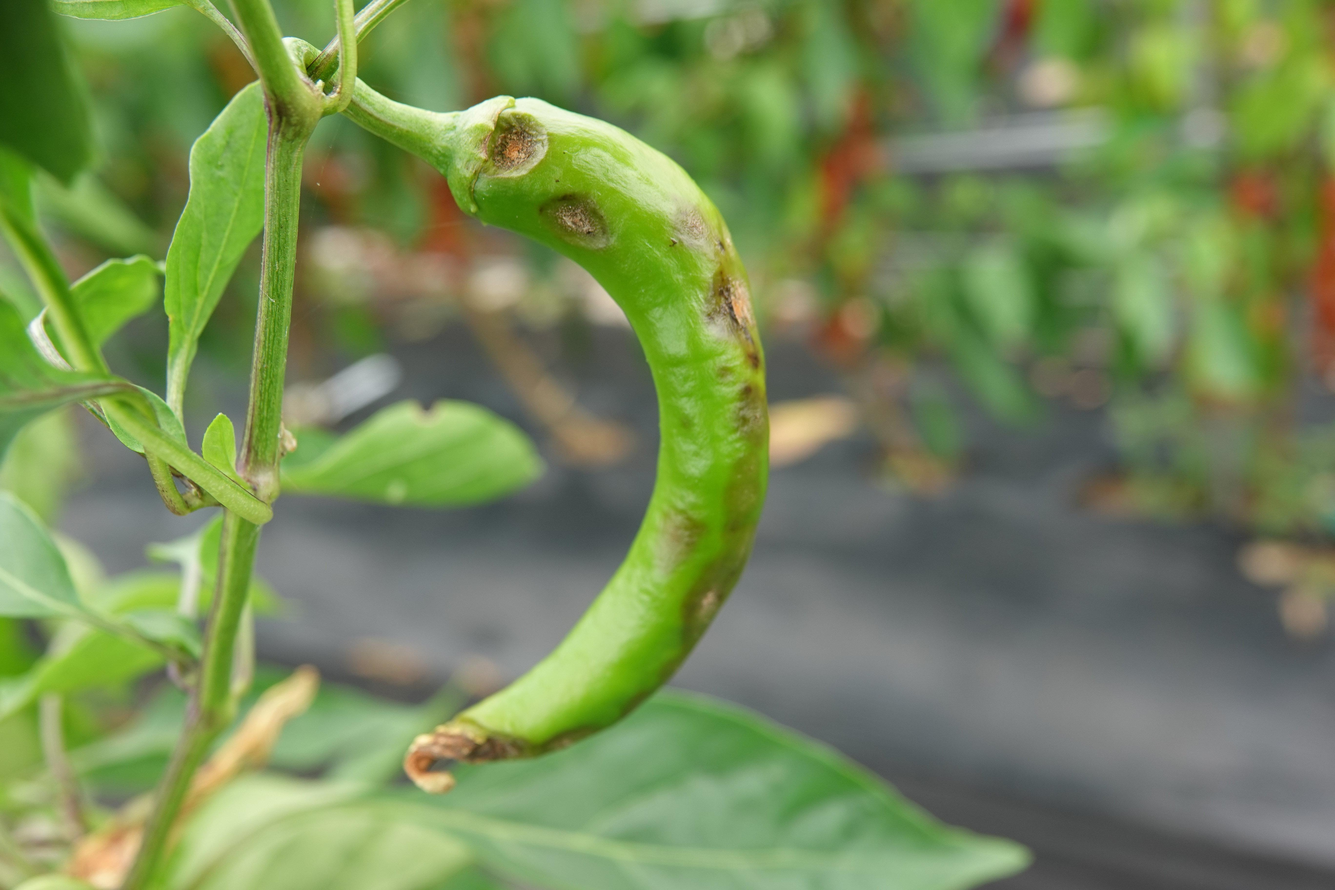Busuk Buah Antraknosa: (400, 94, 769, 800)
